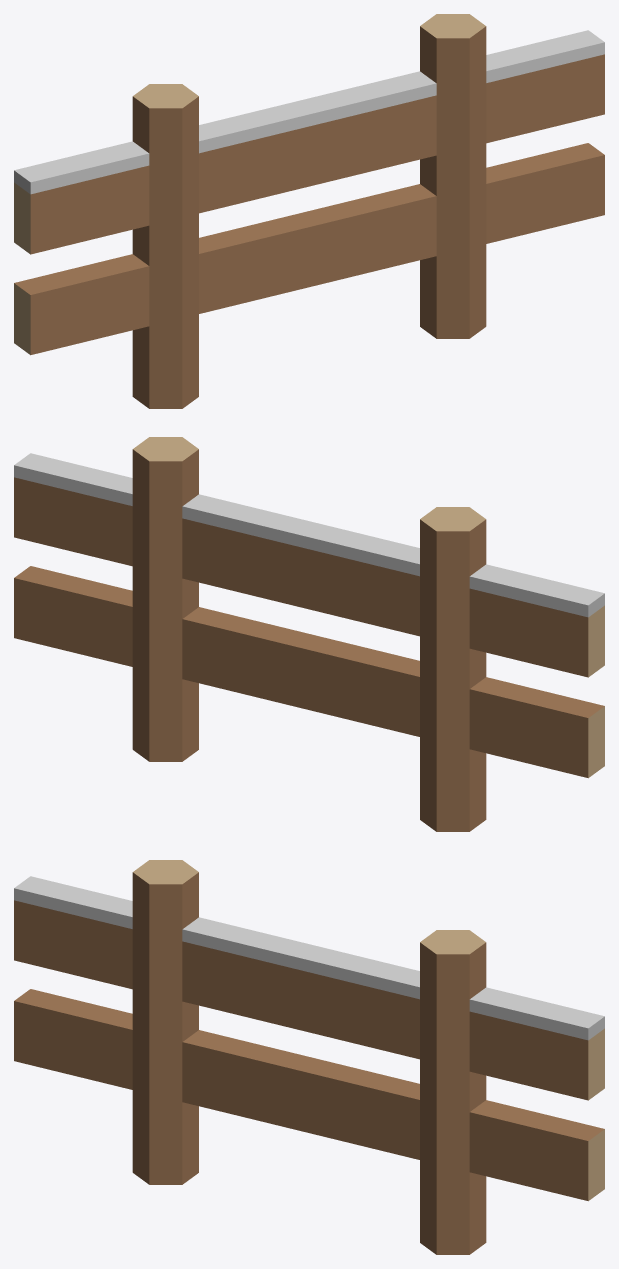
File: Fence03.fbx
The picture shows the model from 3 angles, top to bottom: view 1: azimuth 30°, elevation 25°; view 2: azimuth 150°, elevation 25°; view 3: azimuth 330°, elevation 25°; orthographic projection.
Parts seen in each view (by area): view 1: Fence03; view 2: Fence03; view 3: Fence03.
Part boxes in pixels (<box>): Fence03: <box>14,14,604,408</box>; Fence03: <box>14,437,604,831</box>; Fence03: <box>14,860,604,1254</box>.
Size of the model in its own units: 2 by 1 by 0.2.
